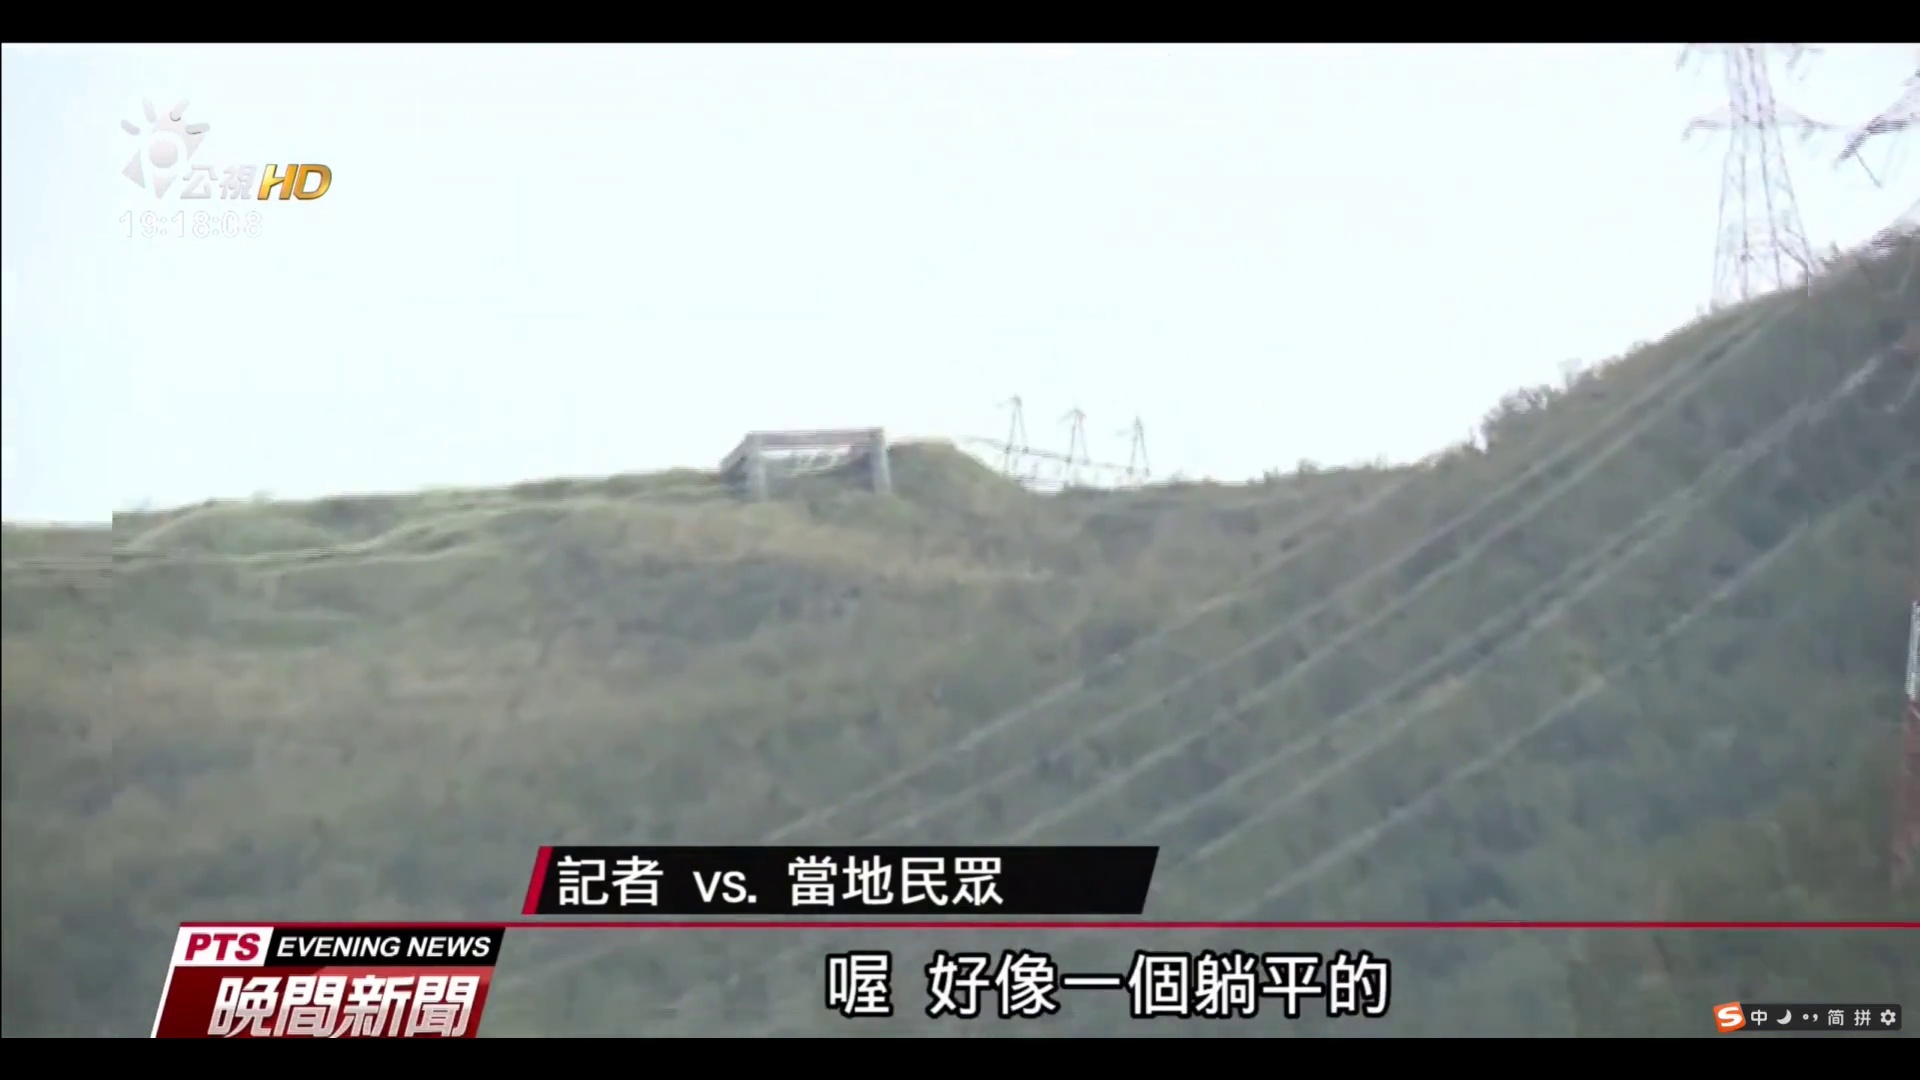tower_down: (909, 397, 1245, 502)
